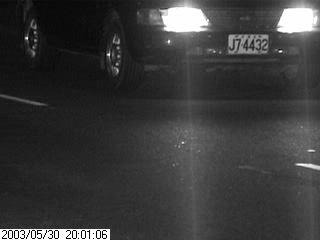plate: (226, 33, 271, 56)
